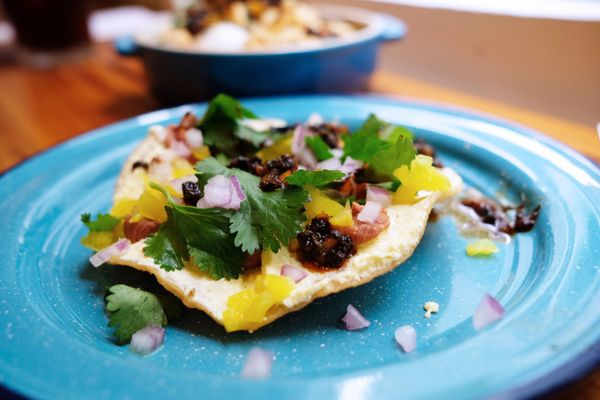sushi: (109, 0, 409, 96)
